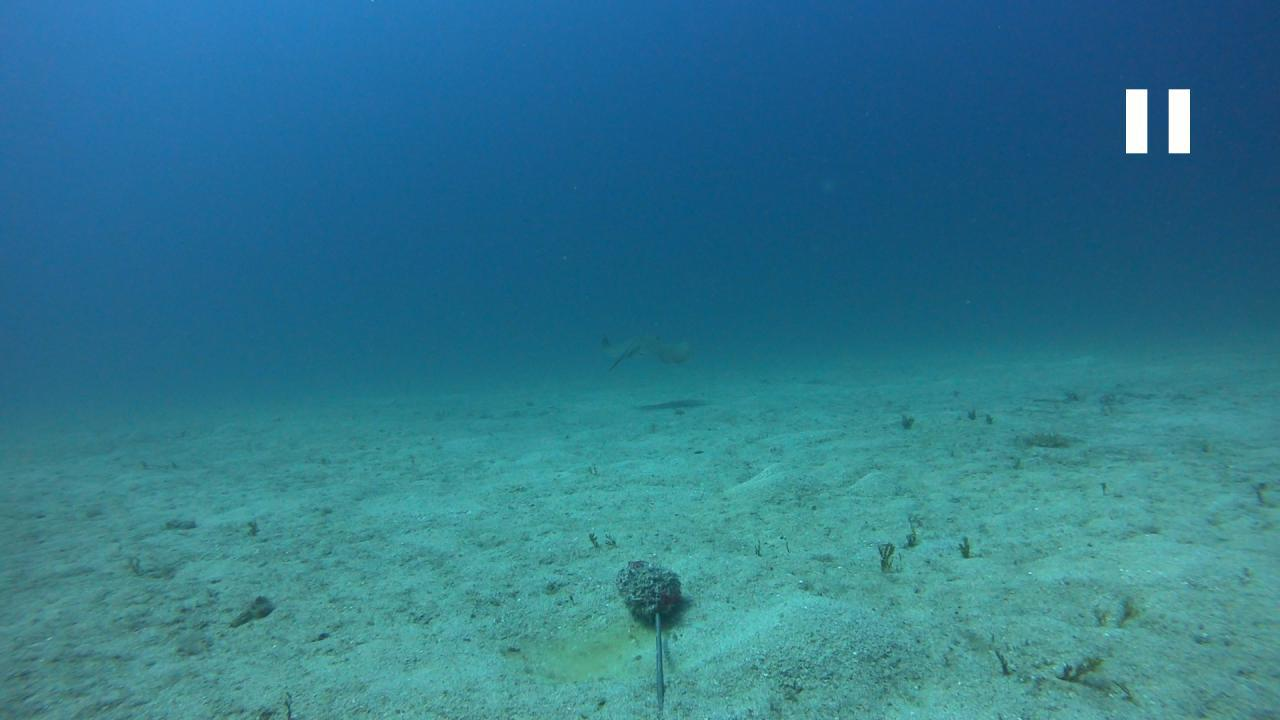dasyatis: (596, 330, 692, 369)
